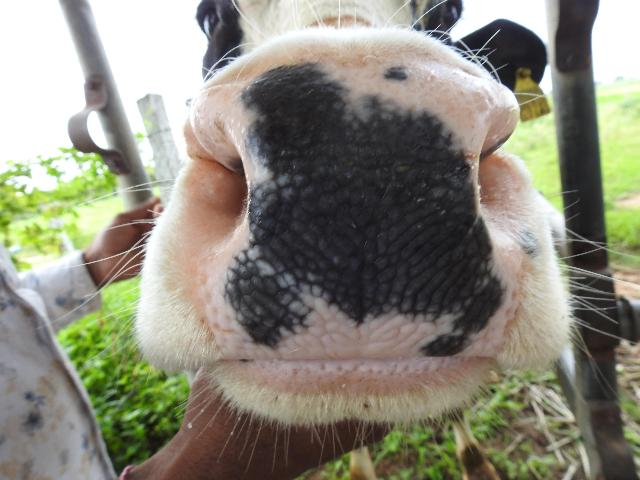Muzzle: (226, 84, 499, 346)
